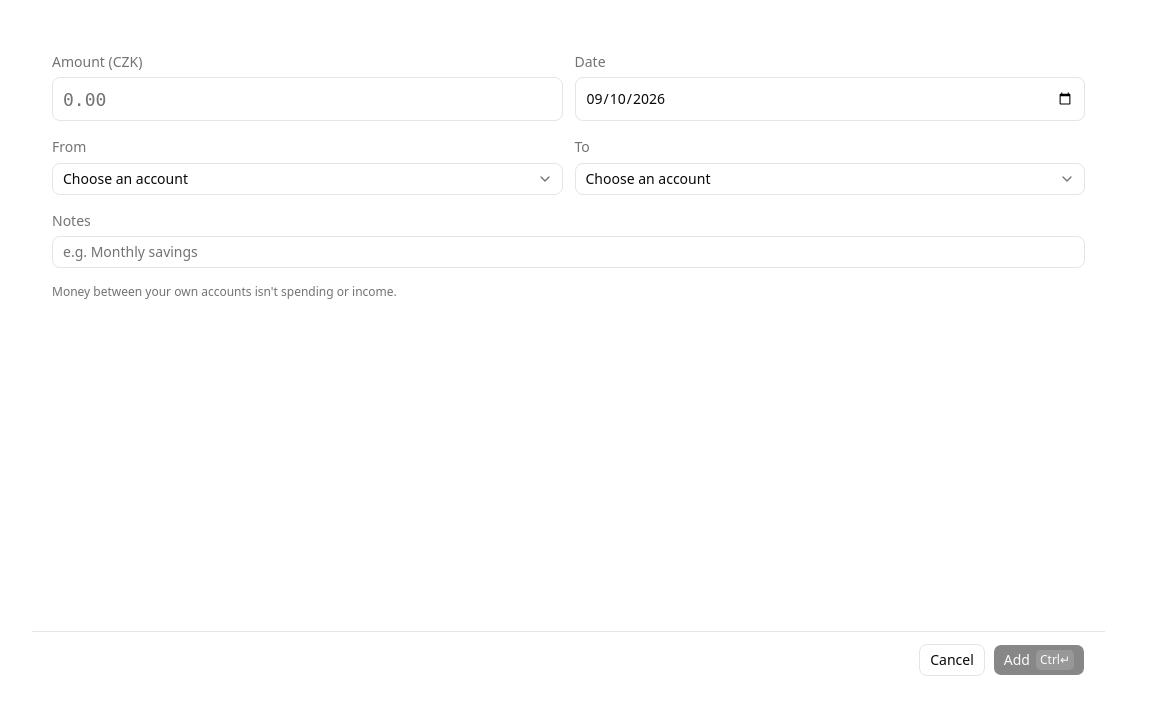
Test: shows Repays <liability> when transferring into a liability account
Select "Current" in the dropdown labelled "From" at (307, 178), box [52,162,562,194]
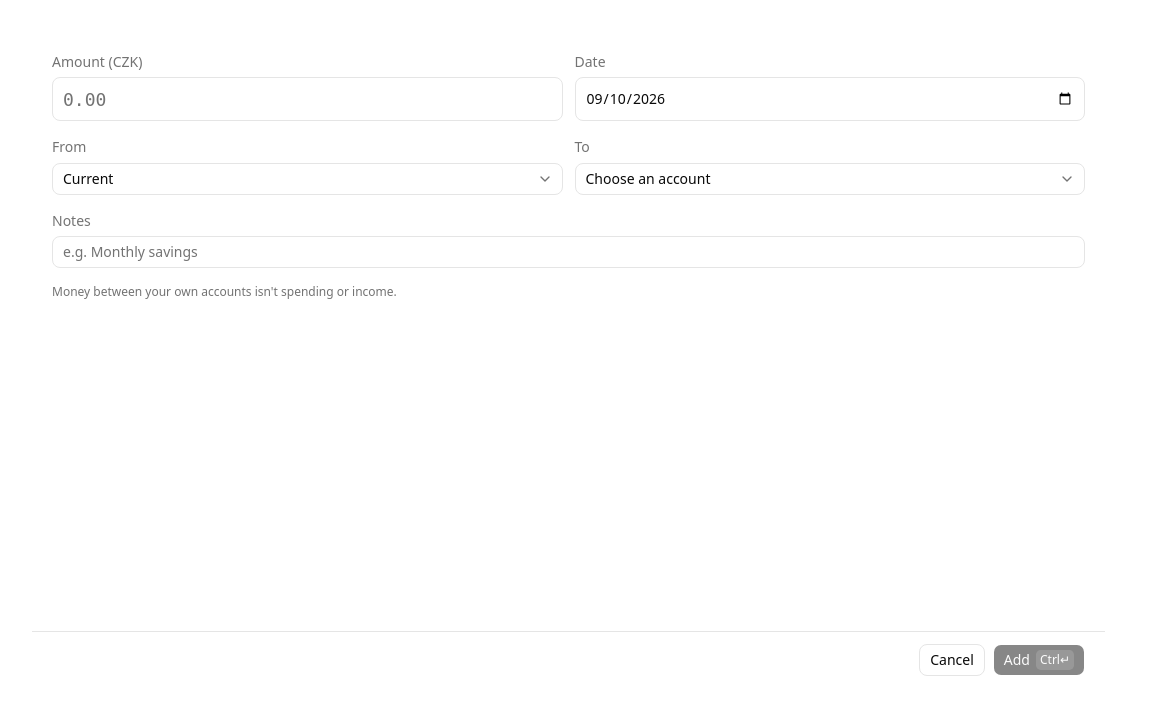
Select "Cash" in the dropdown labelled "To" at (830, 178), box [574,162,1085,194]
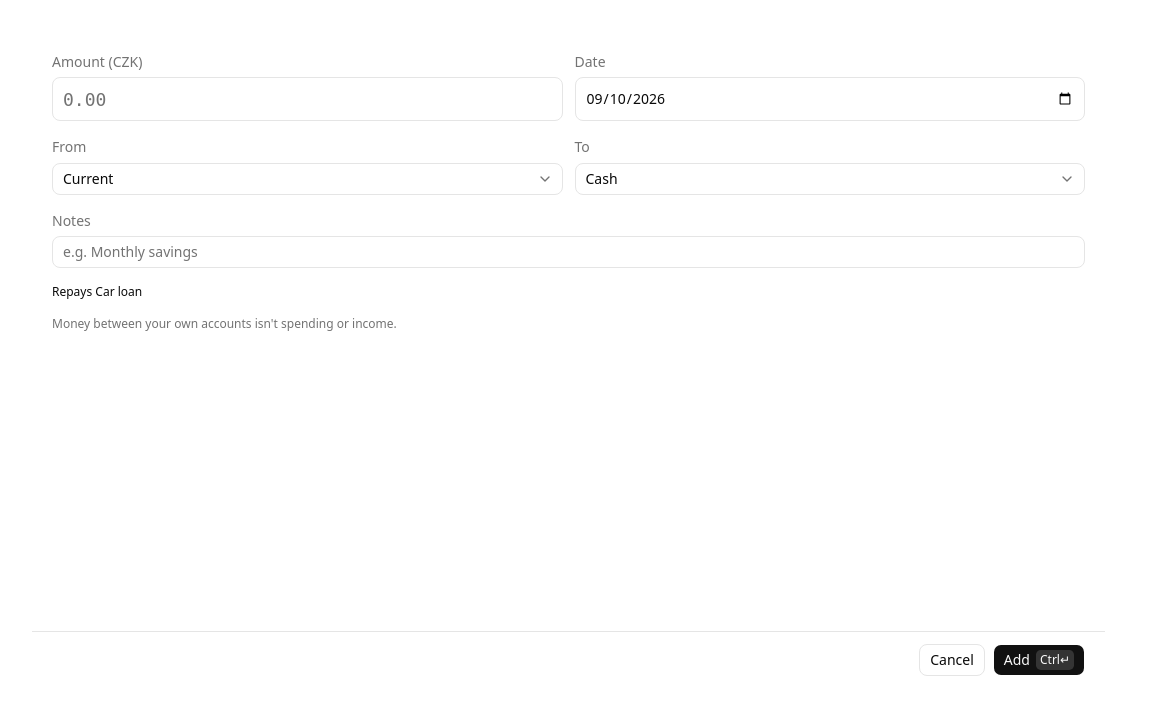
Expected: the text "Repays Car loan" is shown, [52,283,142,300]
